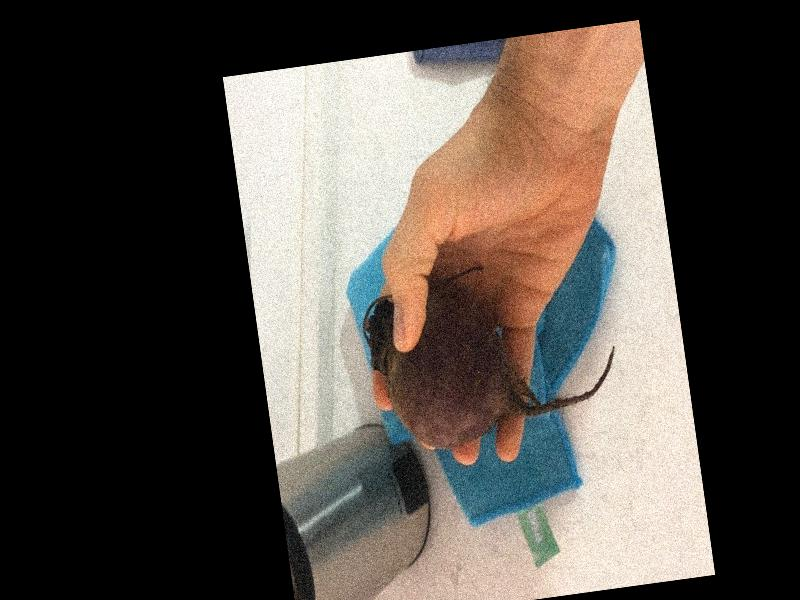Beet: (357, 250, 625, 457)
